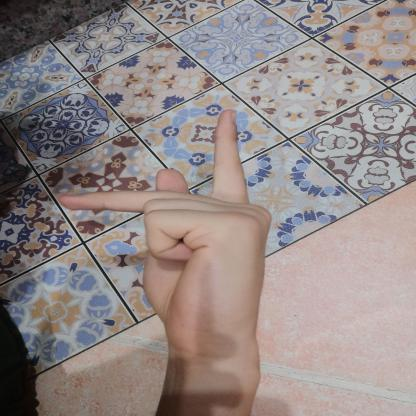DHAA: (43, 100, 284, 363)
